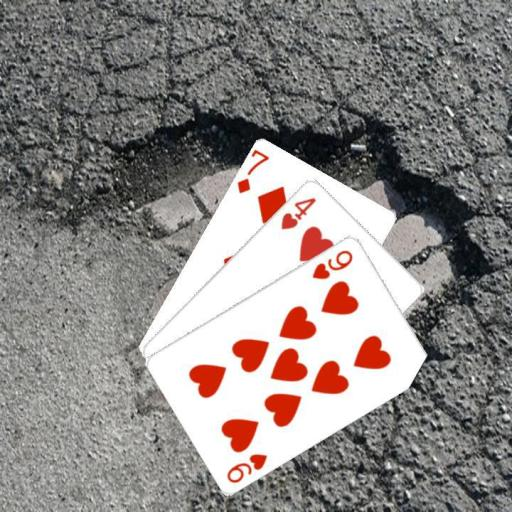4H: (277, 194, 318, 231)
7D: (233, 146, 271, 195)
9H: (309, 246, 355, 281), (223, 450, 269, 485)
